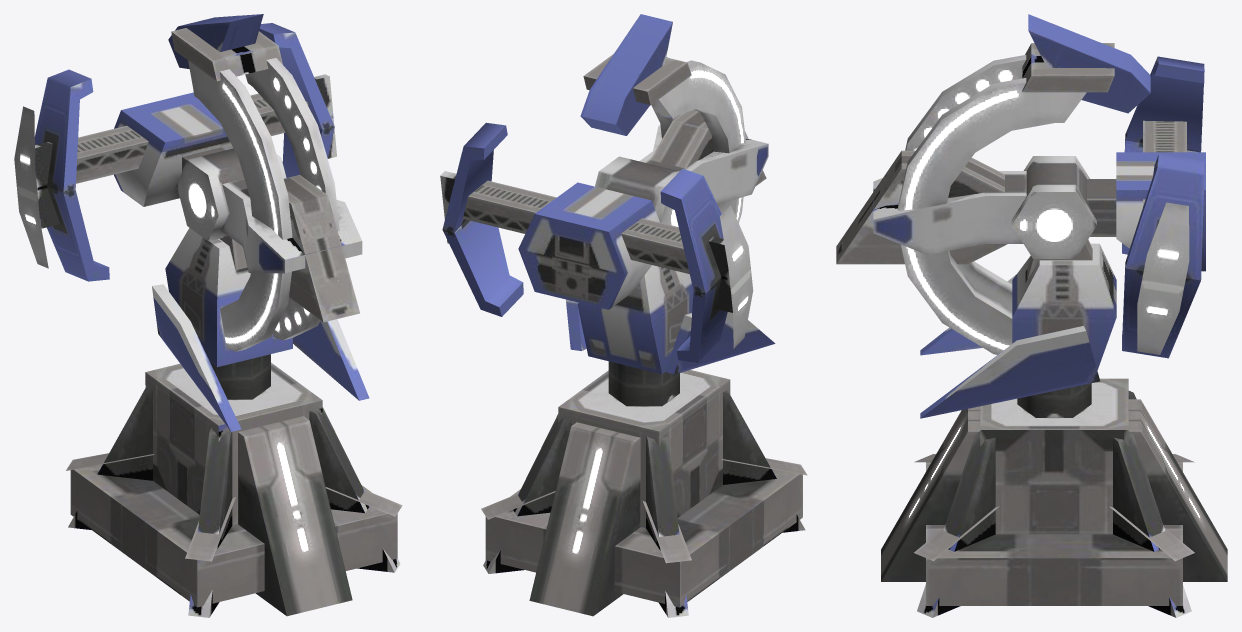
3 views of the same model, side by side, from view 1: azimuth 30°, elevation 25°; view 2: azimuth 150°, elevation 25°; view 3: azimuth 270°, elevation 25° (orthographic). The views are drawn at different scales.
Visible parts, largest first — view 1: turret-laser-lod1; view 2: turret-laser-lod1; view 3: turret-laser-lod1.
Boxes of the visible parts, bbox=[...] form: turret-laser-lod1: bbox=[14, 14, 402, 617]; turret-laser-lod1: bbox=[440, 14, 807, 617]; turret-laser-lod1: bbox=[836, 14, 1227, 617].
Bounding box in the file's own units: 4.53 × 7.59 × 4.95.
Materials: 1 (1 with a texture image).
